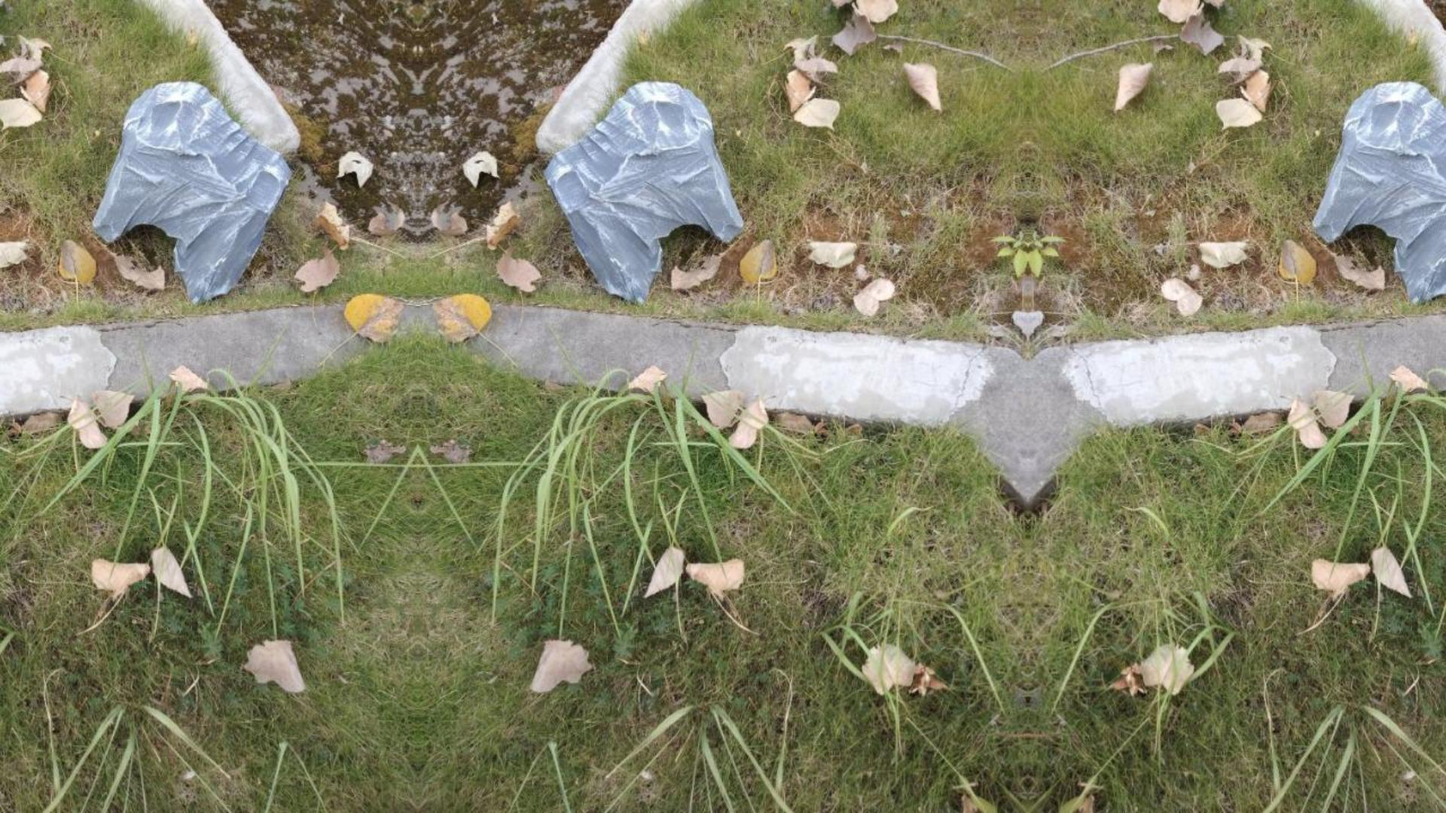rock: (545, 81, 742, 301), (93, 81, 290, 301), (1313, 81, 1445, 301)
